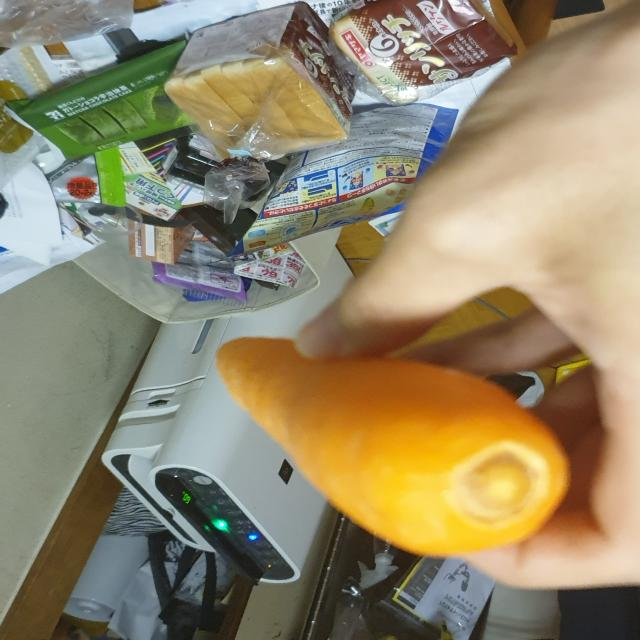carrot: (204, 331, 576, 554)
